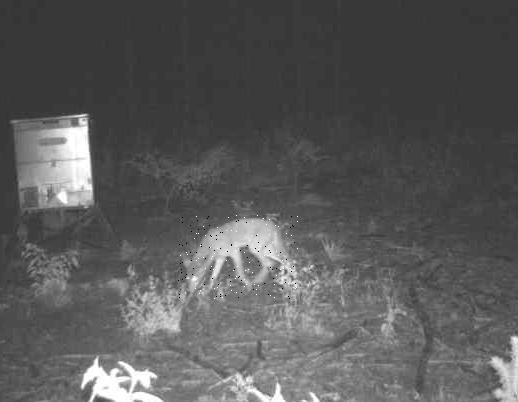Coyote: (179, 215, 299, 300)
